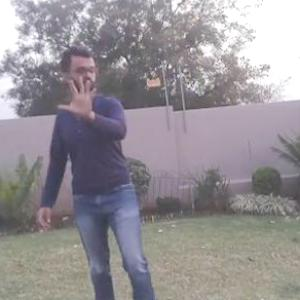follow_hand: (56, 72, 98, 119)
